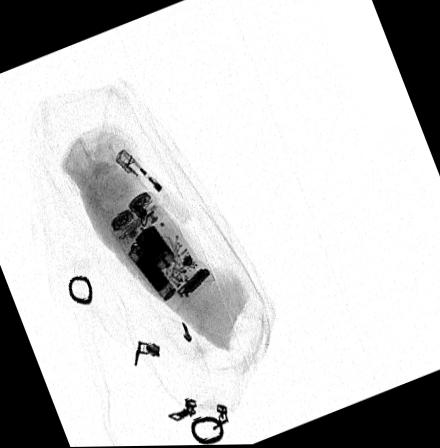Lighter: (113, 150, 192, 227)
